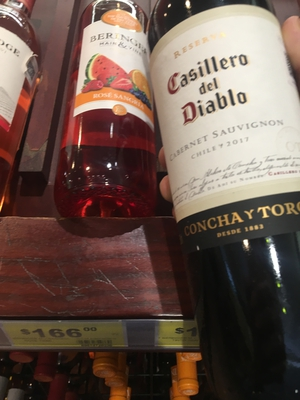casillero del diablo cabernet sauvignon: (143, 1, 298, 298)
